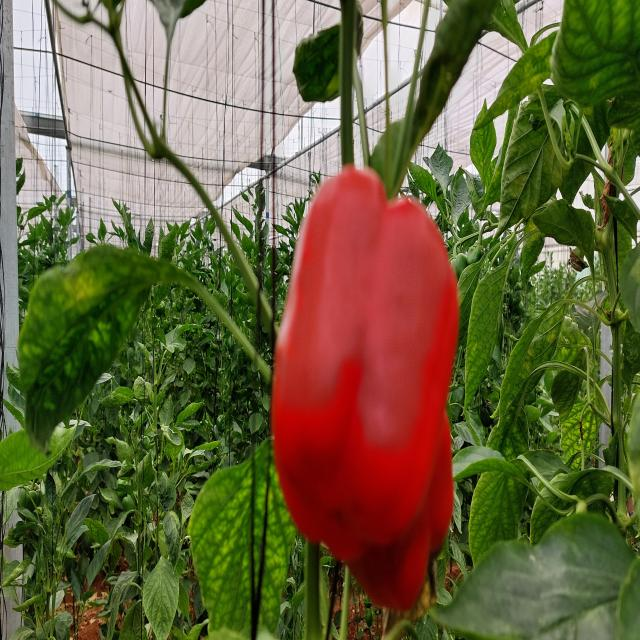Red-Ready-to-Harvest: (278, 157, 461, 602)
